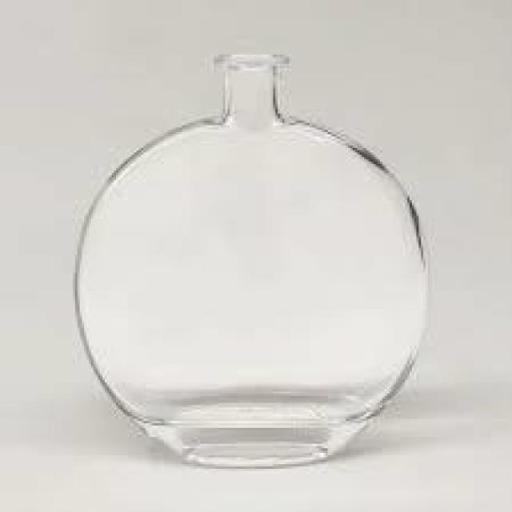glass: (65, 39, 439, 482)
